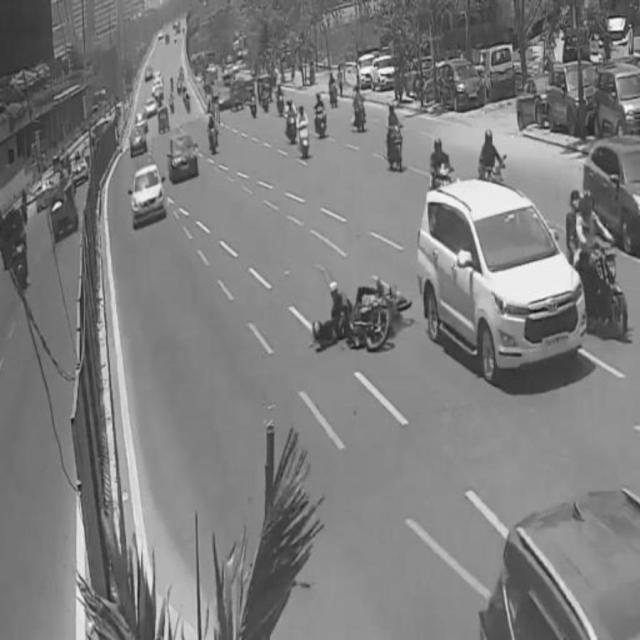vehicle: (419, 180, 587, 392), (564, 179, 631, 341), (311, 267, 414, 349), (576, 129, 640, 249), (547, 61, 593, 138), (595, 65, 639, 129), (476, 127, 511, 195), (131, 163, 166, 225), (428, 138, 454, 199), (384, 101, 404, 174), (168, 134, 198, 178)
